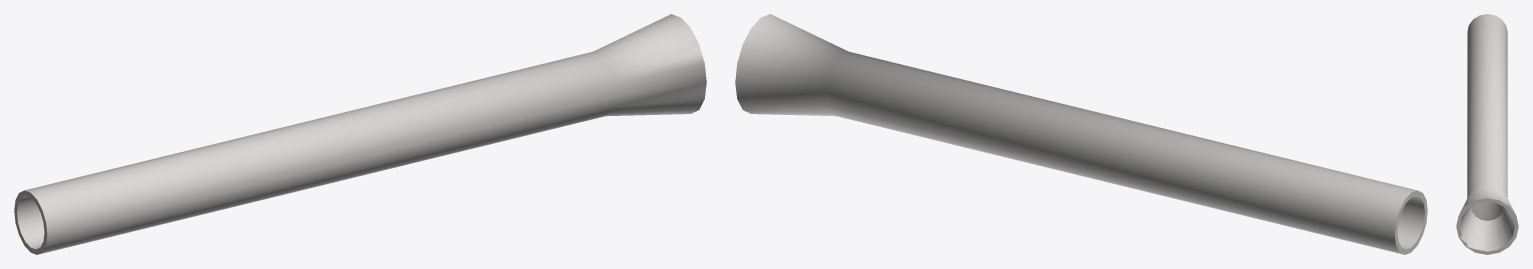
File: tool_Pipe_bender_spring_5.8.glb
3 renders of one model, left to right at view 1: azimuth 30°, elevation 25°; view 2: azimuth 150°, elevation 25°; view 3: azimuth 270°, elevation 25°, orthographic. The views are drawn at different scales.
Parts seen in each view (by area): view 1: tool_Pipe_bender_spring_5.8; view 2: tool_Pipe_bender_spring_5.8; view 3: tool_Pipe_bender_spring_5.8.
Part boxes in pixels (x1,y1,x2,y2): tool_Pipe_bender_spring_5.8: (14,14,706,254); tool_Pipe_bender_spring_5.8: (735,14,1427,254); tool_Pipe_bender_spring_5.8: (1456,14,1518,254).
Bounding box in the file's own units: 0.1798 × 0.0245 × 0.0245.
Materials: 1 (1 with a texture image).
